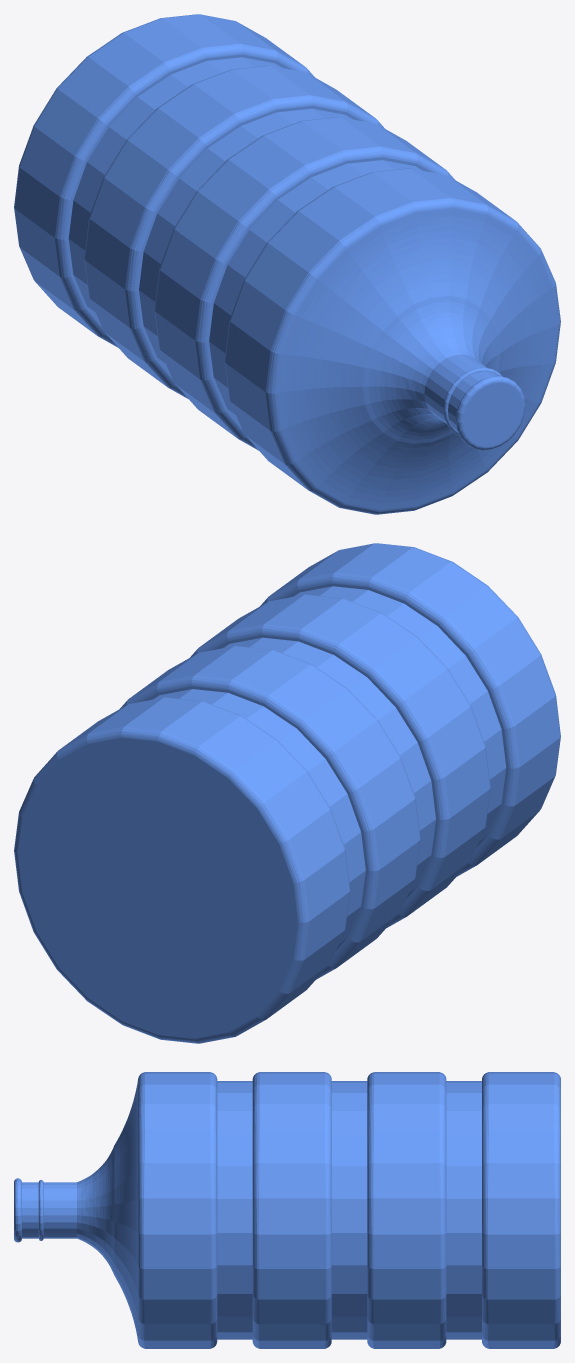
3 views of the same model, one above another, from view 1: azimuth 30°, elevation 25°; view 2: azimuth 150°, elevation 25°; view 3: azimuth 270°, elevation 25° (orthographic). The views are drawn at different scales.
Visible parts, largest first — view 1: water bottle; view 2: water bottle; view 3: water bottle.
Boxes of the visible parts, x1=… form: water bottle: x1=14, y1=14, x2=560, y2=514; water bottle: x1=14, y1=543, x2=560, y2=1043; water bottle: x1=14, y1=1072, x2=560, y2=1348.
Bounding box in the file's own units: 10.59 × 10.59 × 20.87.
